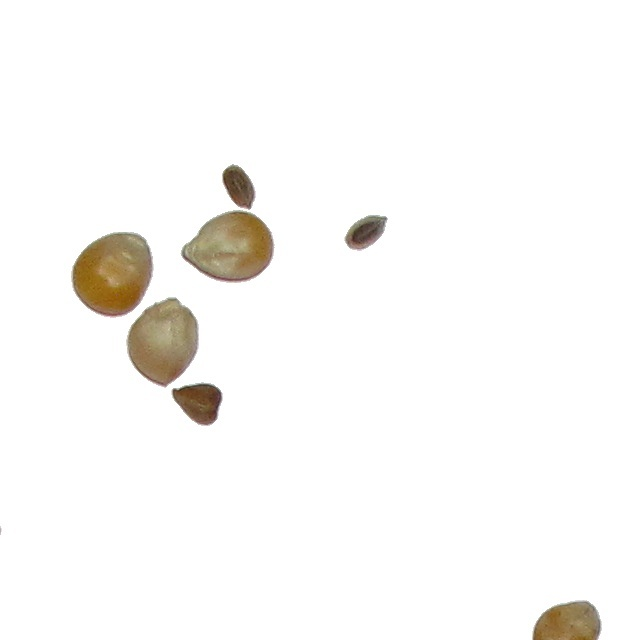buckwheat: (170, 381, 224, 427), (343, 214, 389, 252), (221, 163, 257, 211)
mais: (70, 231, 155, 319), (179, 209, 276, 284), (125, 296, 200, 389), (530, 599, 603, 640)
